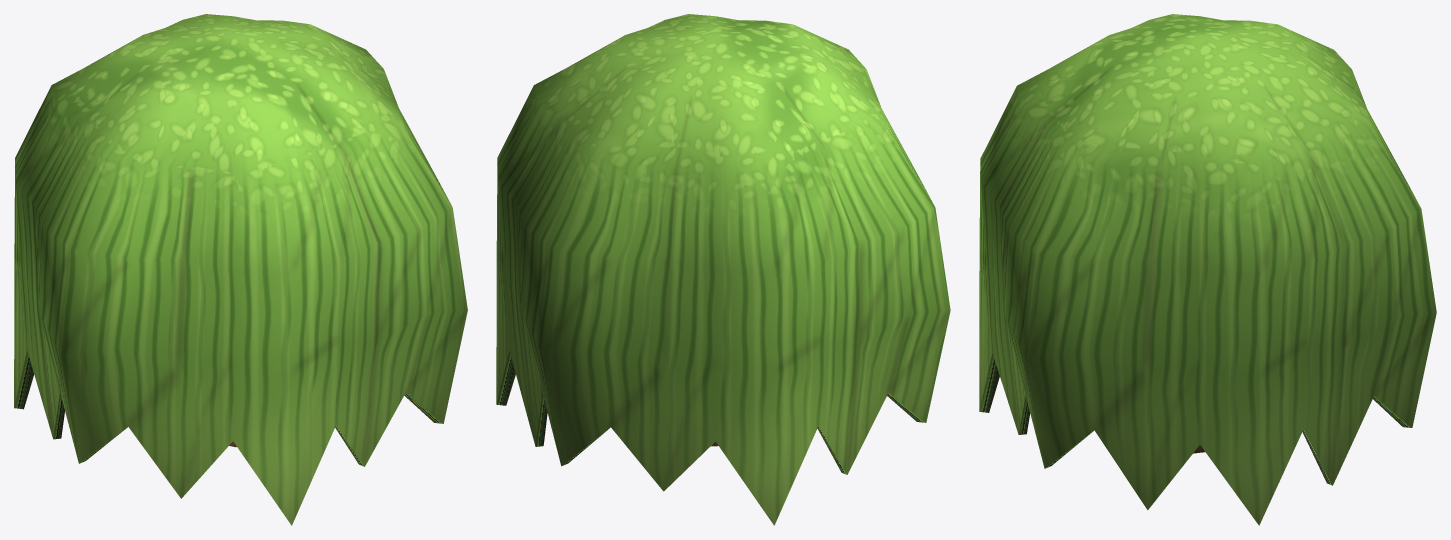
The model's file is willow_tree.obj.
3 views of the same model, side by side, from view 1: azimuth 30°, elevation 25°; view 2: azimuth 150°, elevation 25°; view 3: azimuth 270°, elevation 25° (orthographic).
Parts seen in each view (by area): view 1: WillowTree; view 2: WillowTree; view 3: WillowTree.
Boxes of the visible parts, bbox=[...] form: WillowTree: bbox=[14, 14, 467, 525]; WillowTree: bbox=[496, 14, 950, 525]; WillowTree: bbox=[979, 14, 1436, 525].
Bounding box in the file's own units: 5.9 × 5.73 × 5.9.
Materials: 1 (1 with a texture image).
